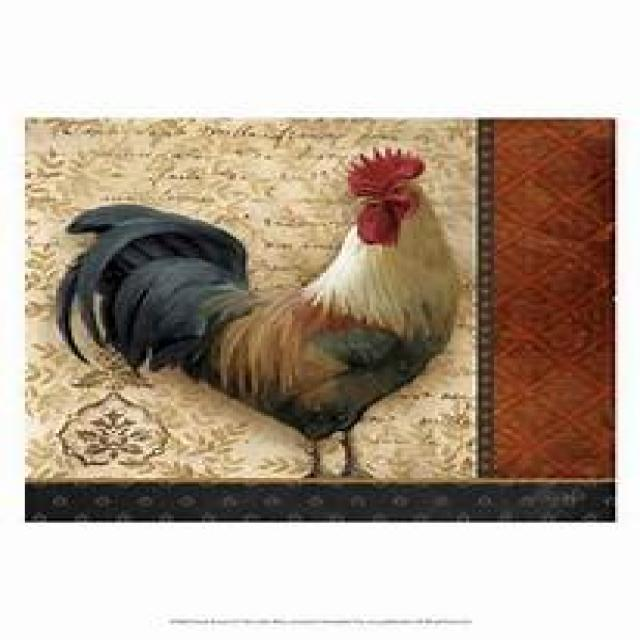hen: (68, 147, 460, 444)
